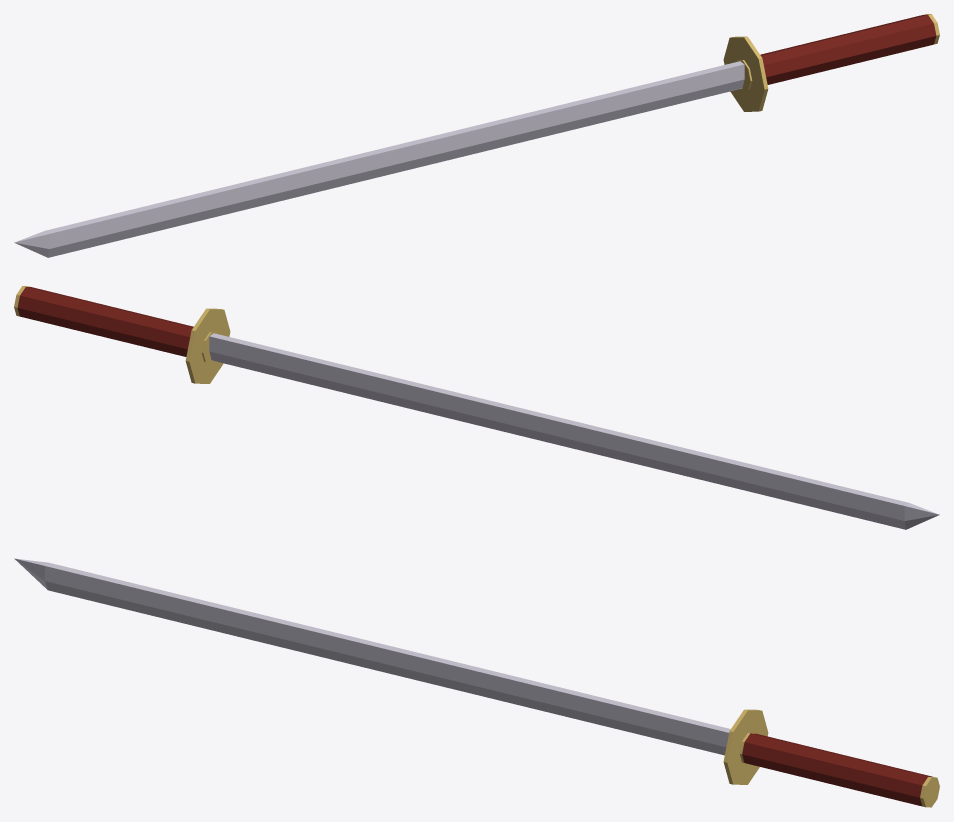
The model's file is Oręz1̇.fbx.
3 views of the same model, one above another, from view 1: azimuth 30°, elevation 25°; view 2: azimuth 150°, elevation 25°; view 3: azimuth 330°, elevation 25° (orthographic).
Visible parts, largest first — view 1: Miecz; view 2: Miecz; view 3: Miecz.
Boxes of the visible parts, x1,y1,x2,y2 form: Miecz: (14, 14, 939, 257); Miecz: (14, 286, 939, 529); Miecz: (14, 558, 939, 807).
Size of the model in its own units: 193 by 15 by 15.
